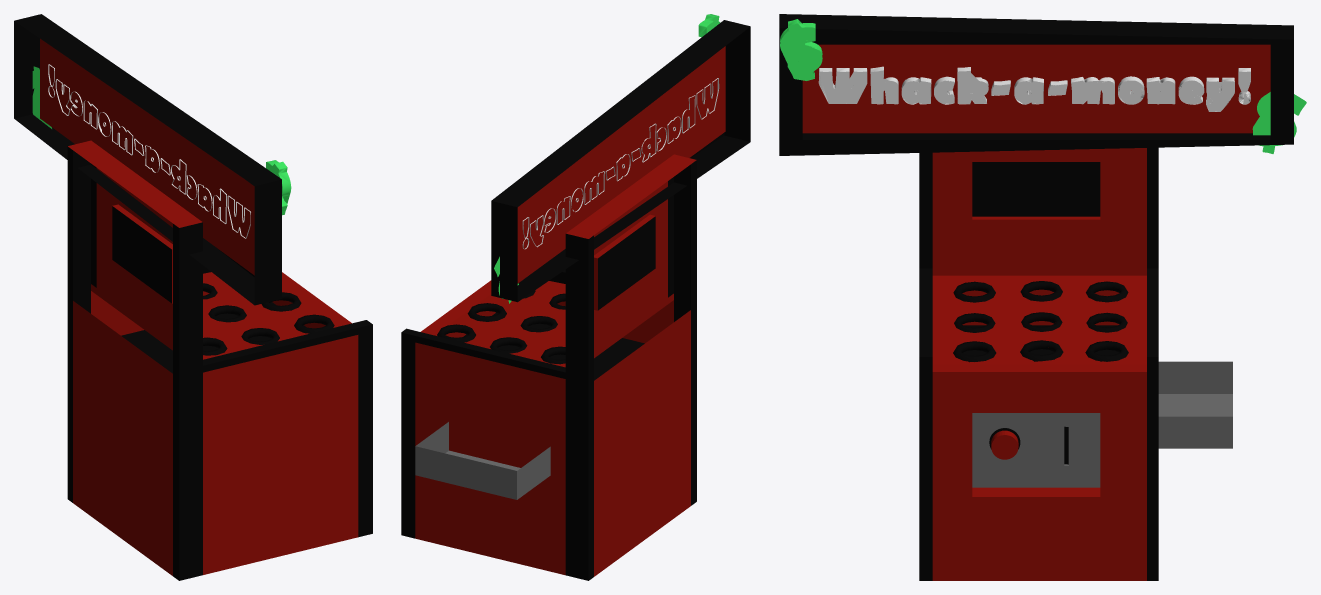
Rendered from maquina_whack_reduced.fbx.
The picture shows the model from 3 angles, left to right: view 1: azimuth 30°, elevation 25°; view 2: azimuth 150°, elevation 25°; view 3: azimuth 270°, elevation 25°; orthographic projection. The views are drawn at different scales.
Parts seen in each view (by area): view 1: Cube.001; view 2: Cube.001; view 3: Cube.001.
Boxes of the visible parts, box(x1,y1,x2,y2) form: Cube.001: box(14, 14, 372, 580); Cube.001: box(401, 14, 750, 580); Cube.001: box(779, 14, 1306, 580).
Bounding box in the file's own units: 370 × 822 × 817.
